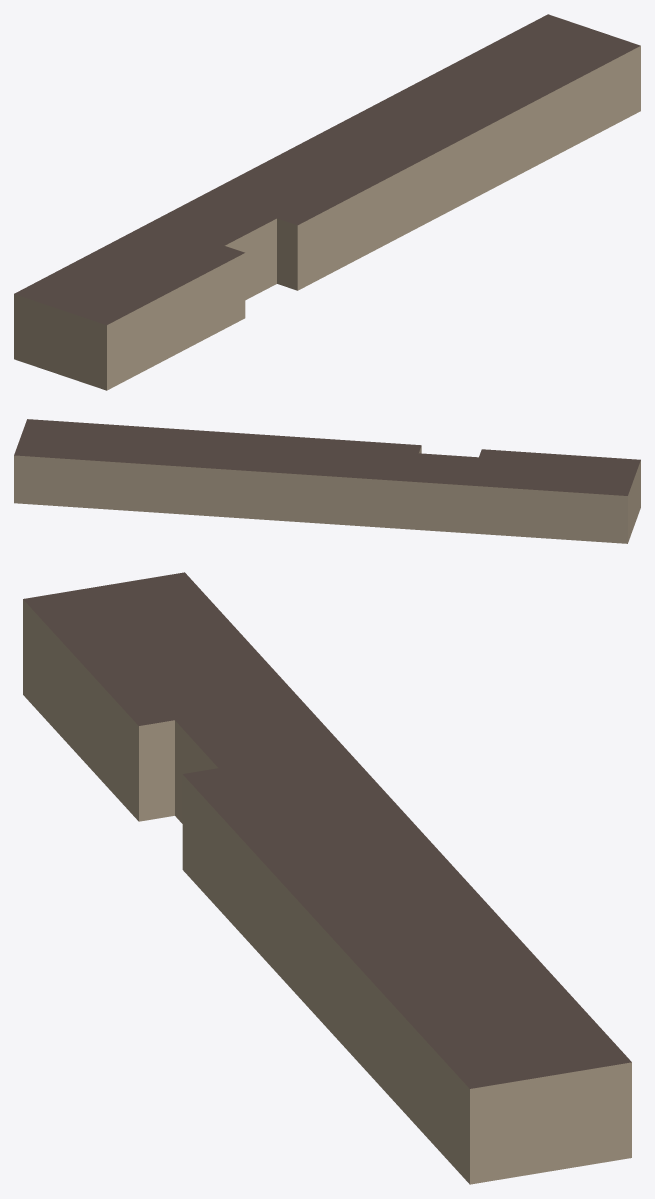
3 renders of one model, top to bottom at view 1: azimuth 30°, elevation 25°; view 2: azimuth 150°, elevation 25°; view 3: azimuth 270°, elevation 25°, orthographic. The views are drawn at different scales.
Parts seen in each view (by area): view 1: HP-w859457305; view 2: HP-w859457305; view 3: HP-w859457305.
Boxes of the visible parts, <box> form: HP-w859457305: <box>14,14,640,390</box>; HP-w859457305: <box>14,419,640,543</box>; HP-w859457305: <box>23,572,631,1184</box>.
Bounding box in the file's own units: 69.53 × 6 × 34.65.
